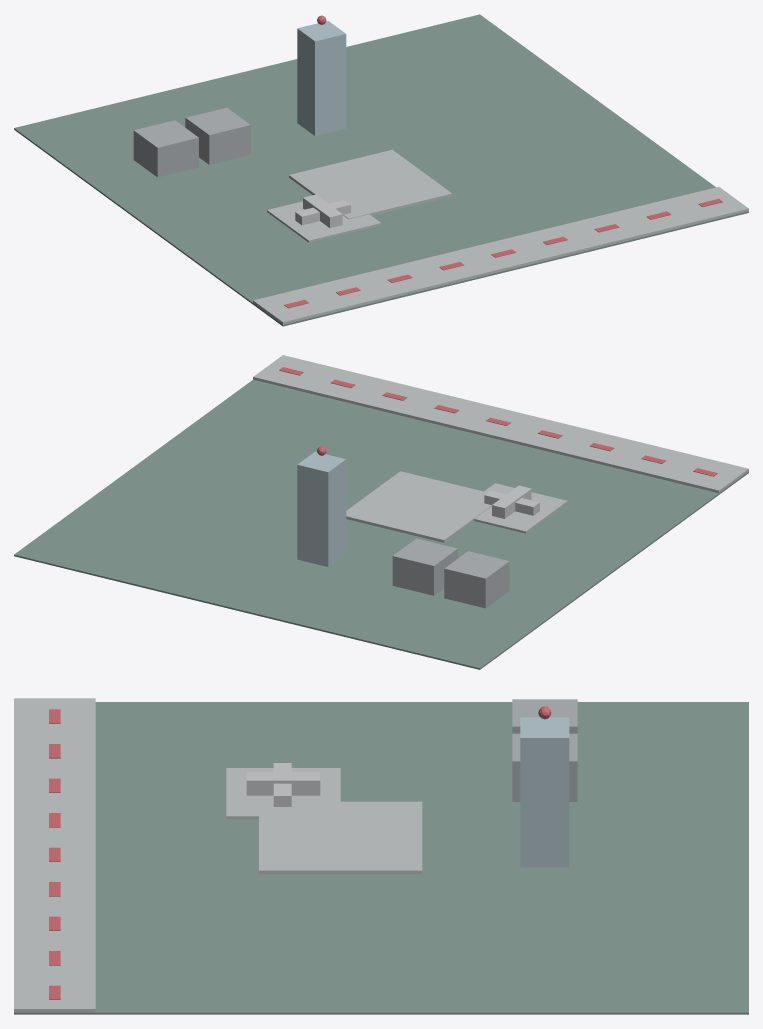
File: stage_05.glb
The picture shows the model from 3 angles, top to bottom: view 1: azimuth 30°, elevation 25°; view 2: azimuth 150°, elevation 25°; view 3: azimuth 270°, elevation 25°; orthographic projection. The views are drawn at different scales.
Visible parts, largest first — view 1: geometry_0; view 2: geometry_0; view 3: geometry_0.
Boxes of the visible parts, <box> form: geometry_0: <box>14,14,748,326</box>; geometry_0: <box>14,355,748,669</box>; geometry_0: <box>14,698,748,1014</box>.
Size of the model in its own units: 9 by 2.06 by 9.
